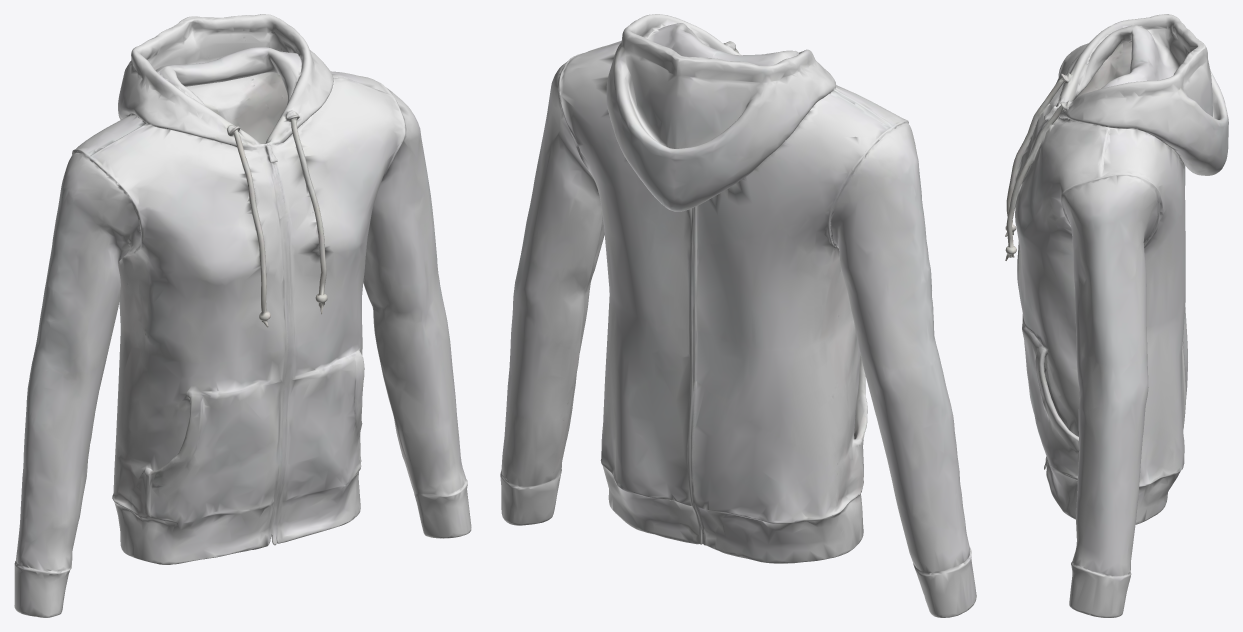
The picture shows the model from 3 angles, left to right: view 1: azimuth 30°, elevation 25°; view 2: azimuth 150°, elevation 25°; view 3: azimuth 270°, elevation 25°; orthographic projection. The views are drawn at different scales.
Parts seen in each view (by area): view 1: tripo_node_ab7120a5-e112-40c3-8a71-b448262eb679; view 2: tripo_node_ab7120a5-e112-40c3-8a71-b448262eb679; view 3: tripo_node_ab7120a5-e112-40c3-8a71-b448262eb679.
Boxes of the visible parts, x1,y1,x2,y2 form: tripo_node_ab7120a5-e112-40c3-8a71-b448262eb679: (14,14,471,617); tripo_node_ab7120a5-e112-40c3-8a71-b448262eb679: (500,14,976,617); tripo_node_ab7120a5-e112-40c3-8a71-b448262eb679: (1005,14,1228,617).
Bounding box in the file's own units: 0.8873 × 0.9998 × 0.4238.
Materials: 1 (1 with a texture image).
